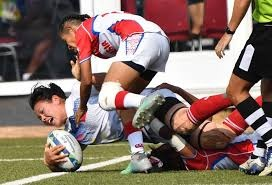falling: (26, 74, 271, 168)
